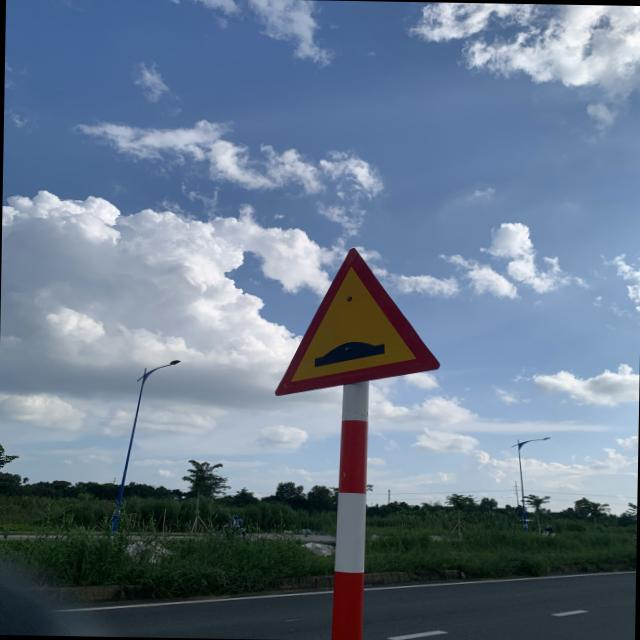Duong_Cong_Ben_Phai: (274, 245, 444, 400)
